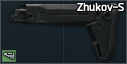AKM%5AK-74 Magpul Zhukov-S stock: (0, 0, 127, 64)
